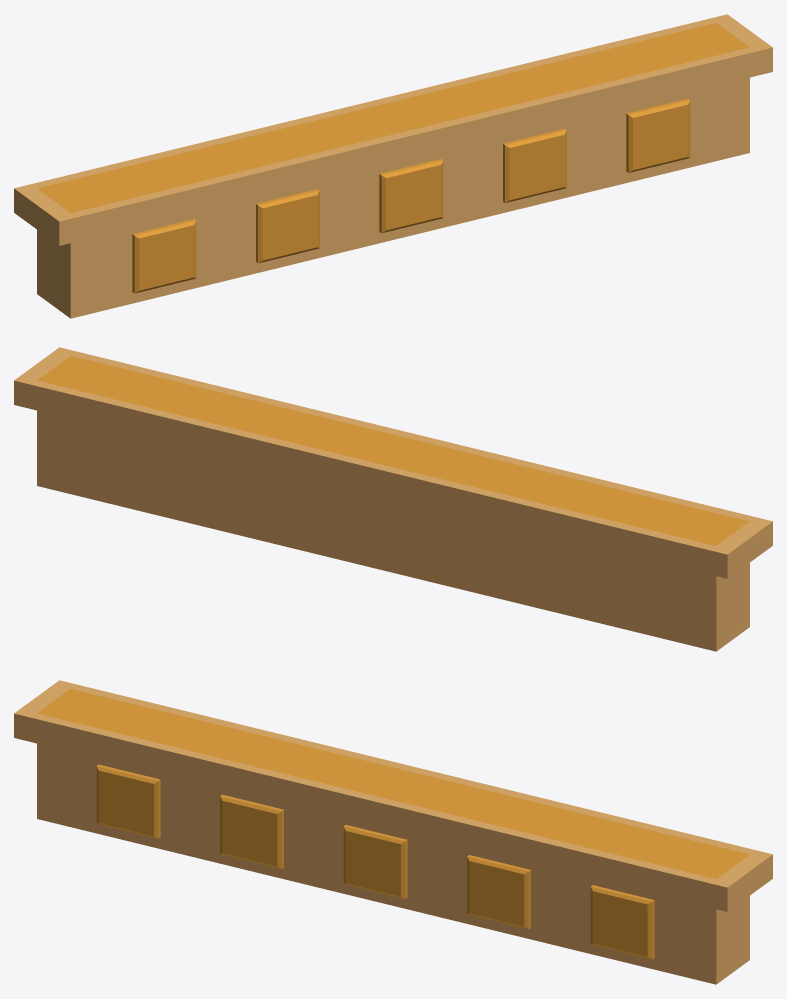
Rendered from table.fbx.
3 views of the same model, one above another, from view 1: azimuth 30°, elevation 25°; view 2: azimuth 150°, elevation 25°; view 3: azimuth 330°, elevation 25° (orthographic).
Parts seen in each view (by area): view 1: Cube.001; view 2: Cube.001; view 3: Cube.001.
Part boxes in pixels (x1,y1,x2,y2): Cube.001: [14, 14, 772, 318]; Cube.001: [14, 347, 772, 651]; Cube.001: [14, 680, 772, 984].
Bounding box in the file's own units: 73534 × 10400 × 8120.
